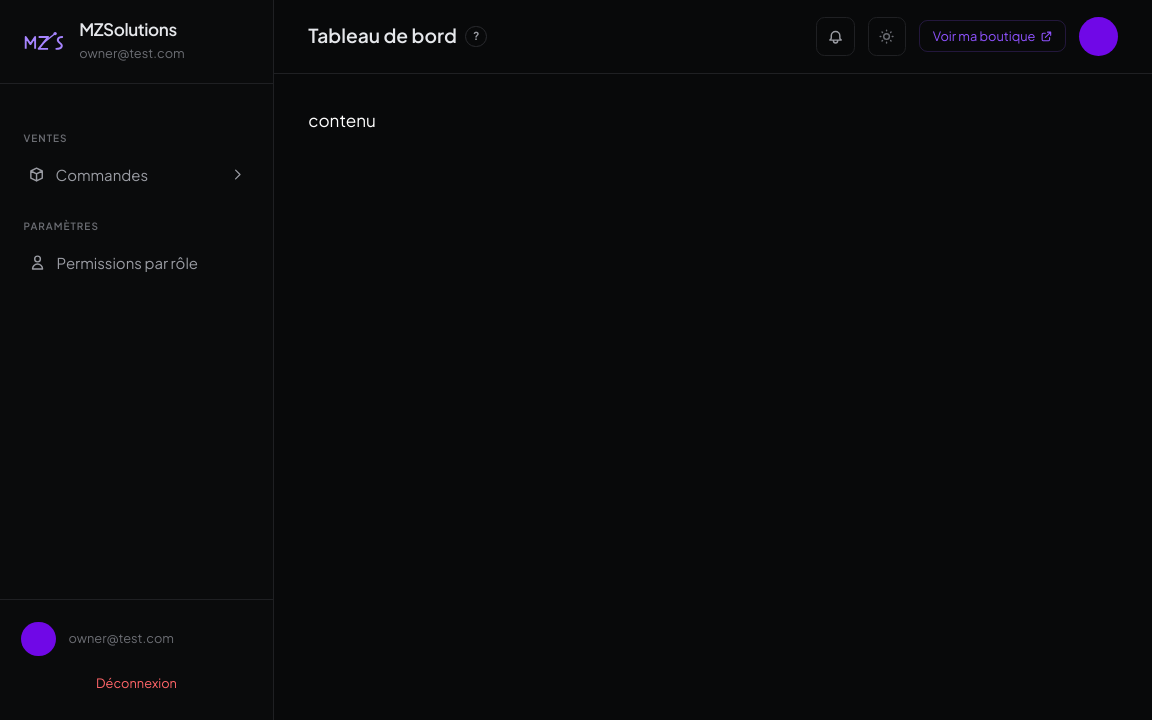
Test case: DashboardLayout — sidebar gated by permissions › affiche l'aide contextuelle de la page via le registre quand aucun subtitle explicite n'est passé
Click the button named "Informations sur cette page". click: (476, 36)
box: x1=465 y1=26 x2=487 y2=47
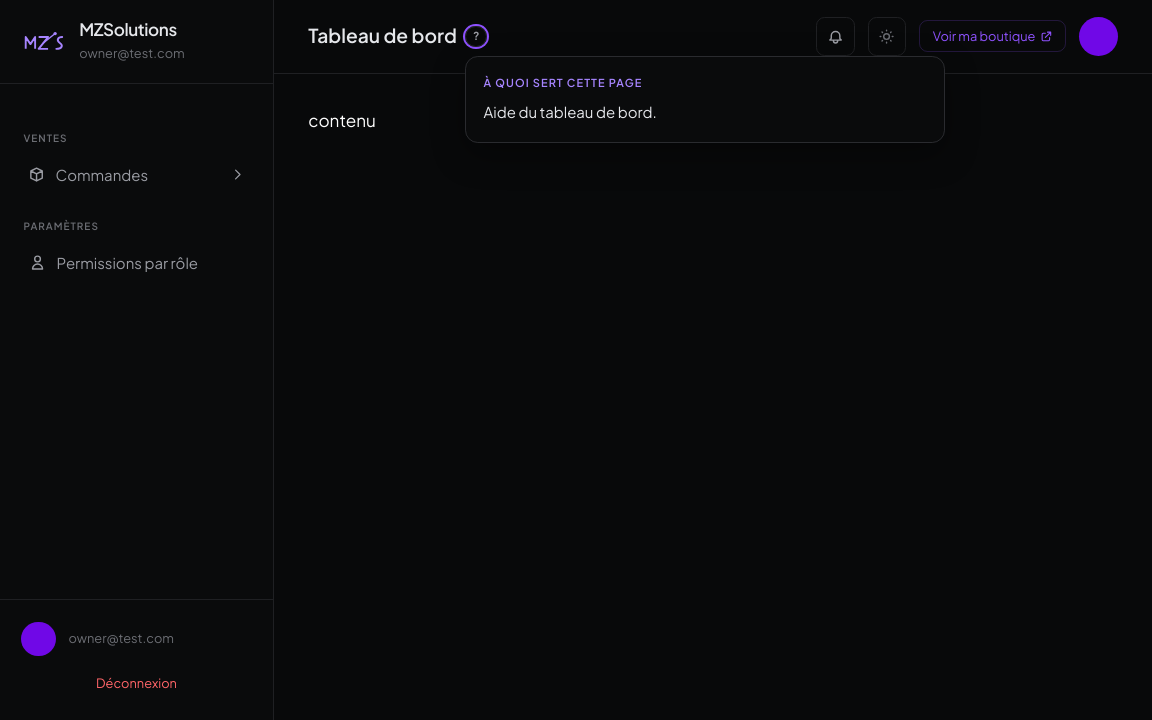
Check: the text "Aide du tableau de bord." is shown, box x1=484 y1=102 x2=657 y2=121
